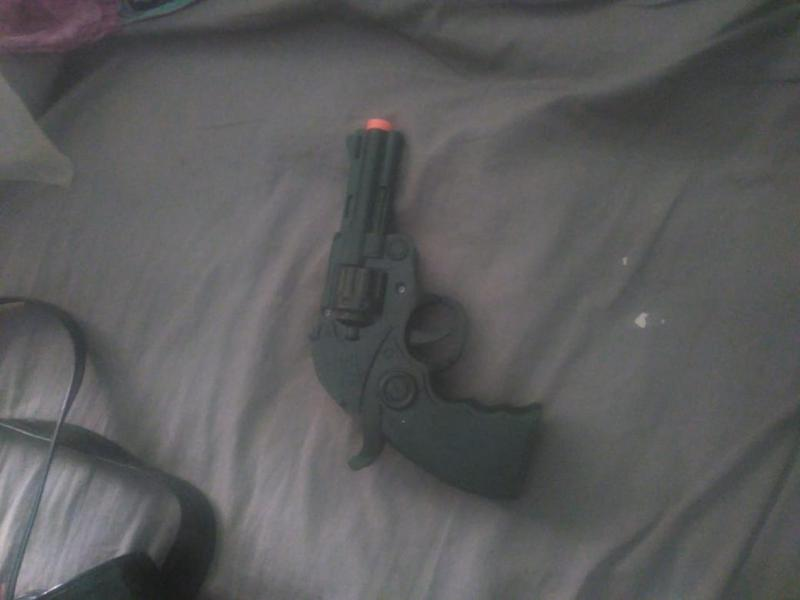gun: (294, 98, 610, 518)
